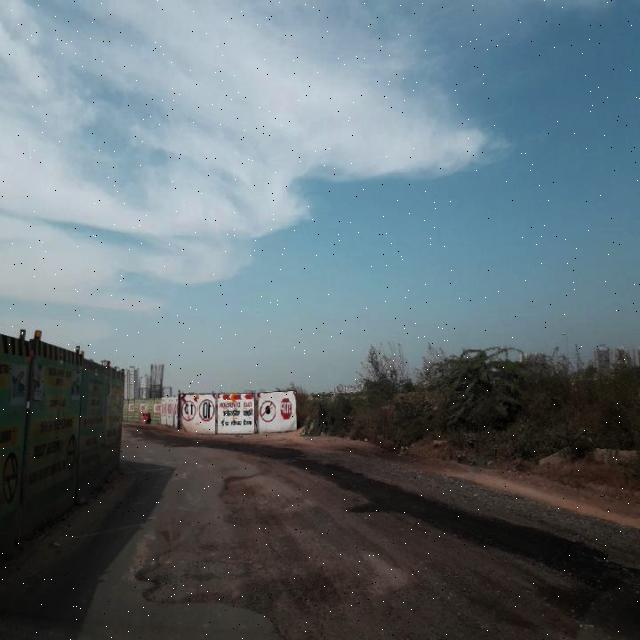D40: (130, 449, 640, 639)
